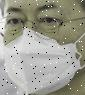with_mask: (1, 2, 85, 95)
